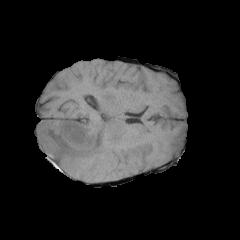glioma: (38, 118, 147, 170)
